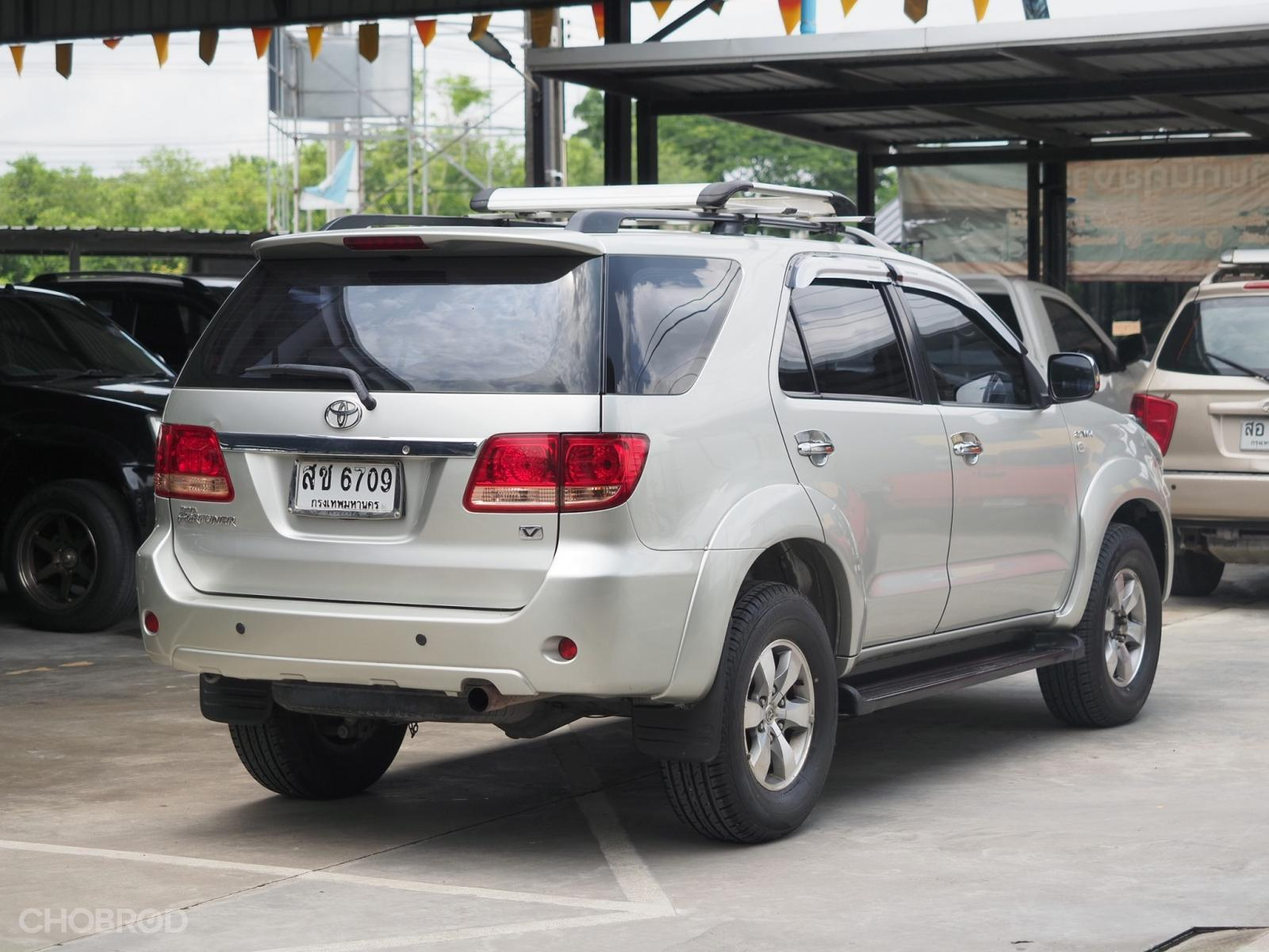license-plate: (285, 450, 406, 522), (1240, 411, 1269, 452)
